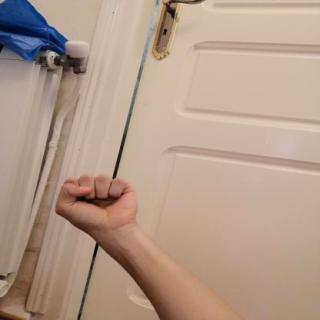SAD: (40, 165, 152, 242)
